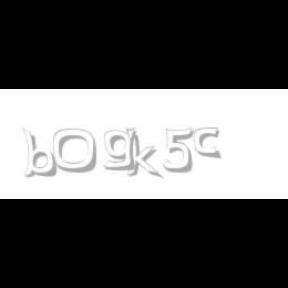5: (162, 128, 194, 174)
O: (53, 128, 98, 174)
b: (22, 128, 60, 178)
c: (194, 128, 222, 160)
g: (104, 128, 140, 171)
k: (125, 128, 163, 180)
